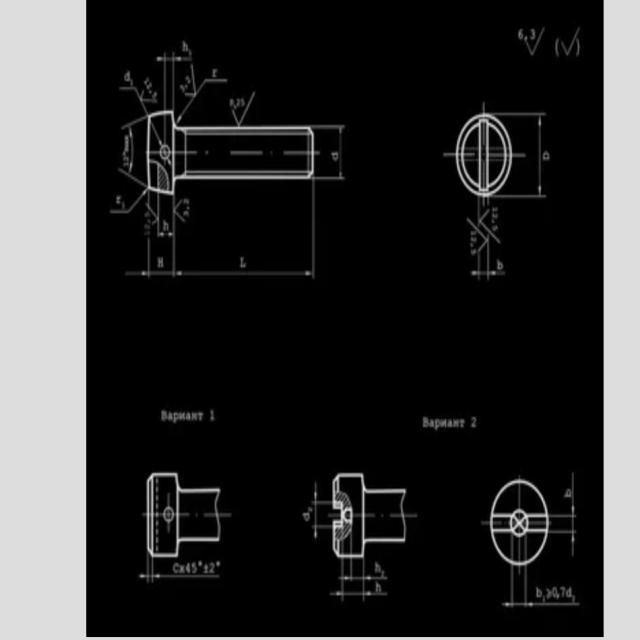marking_line: (171, 193, 317, 279), (502, 567, 581, 612), (513, 113, 546, 203), (326, 560, 389, 602), (550, 474, 576, 557), (117, 121, 146, 190), (156, 52, 186, 111), (315, 124, 345, 181), (151, 559, 221, 581), (176, 80, 208, 125), (469, 255, 507, 291), (311, 481, 332, 540), (109, 187, 146, 216), (157, 195, 176, 239), (125, 268, 186, 280), (136, 558, 151, 580)
numeric: (538, 111, 546, 183), (534, 585, 545, 600), (331, 150, 340, 163), (209, 408, 217, 422), (564, 487, 572, 500), (560, 586, 567, 600), (542, 151, 552, 160), (239, 256, 246, 268), (124, 70, 131, 82), (517, 28, 524, 40), (470, 417, 477, 429), (156, 257, 164, 267), (183, 40, 189, 53), (162, 219, 169, 230), (552, 584, 557, 599), (212, 67, 218, 79), (235, 97, 242, 107), (303, 512, 310, 522), (240, 97, 246, 107), (530, 27, 534, 41), (152, 91, 158, 99), (146, 81, 152, 88), (145, 78, 149, 84)
special_symbol: (554, 29, 582, 59), (120, 84, 151, 109), (469, 220, 486, 253), (526, 28, 546, 56), (479, 209, 492, 235), (231, 108, 247, 127), (175, 199, 186, 222), (187, 80, 197, 100)
